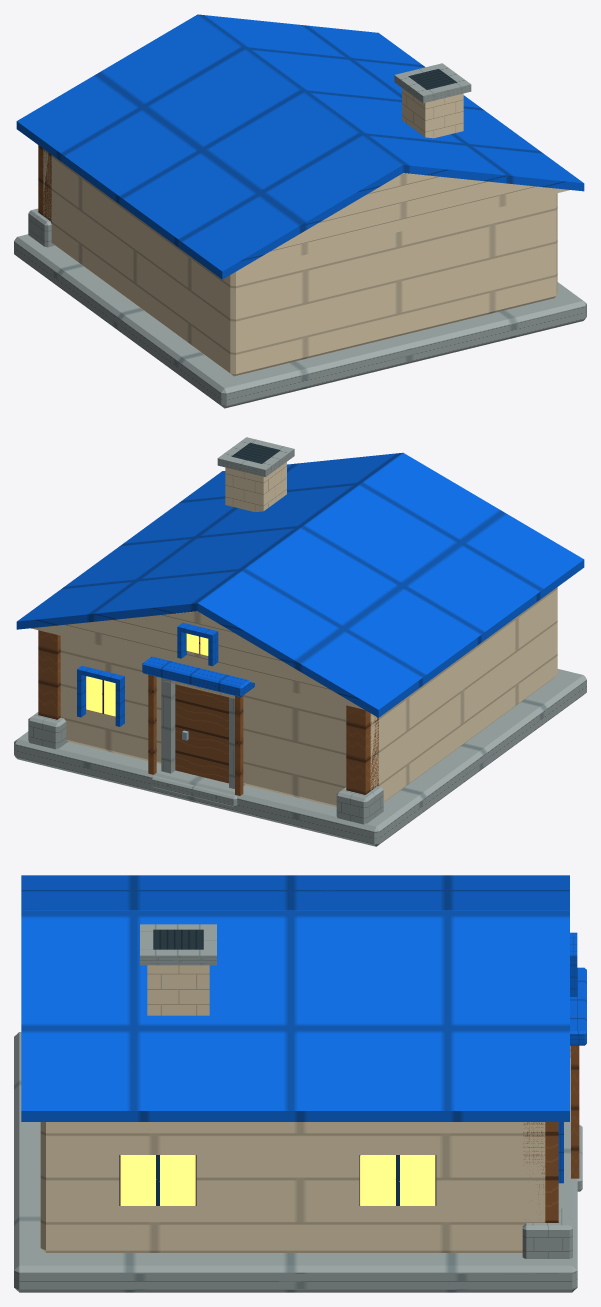
Rendered from bld-ranger-cabin-2x2.glb.
3 views of the same model, one above another, from view 1: azimuth 30°, elevation 25°; view 2: azimuth 150°, elevation 25°; view 3: azimuth 270°, elevation 25° (orthographic). The views are drawn at different scales.
Parts seen in each view (by area): view 1: bld-ranger-cabin-2x2; view 2: bld-ranger-cabin-2x2; view 3: bld-ranger-cabin-2x2.
Boxes of the visible parts, left/top/right/bottom form: bld-ranger-cabin-2x2: left=14, top=14, right=586, bottom=408; bld-ranger-cabin-2x2: left=14, top=437, right=586, bottom=846; bld-ranger-cabin-2x2: left=14, top=875, right=586, bottom=1292.
Bounding box in the file's own units: 1.9 × 1.09 × 1.93.
1 material, 1 textured.
